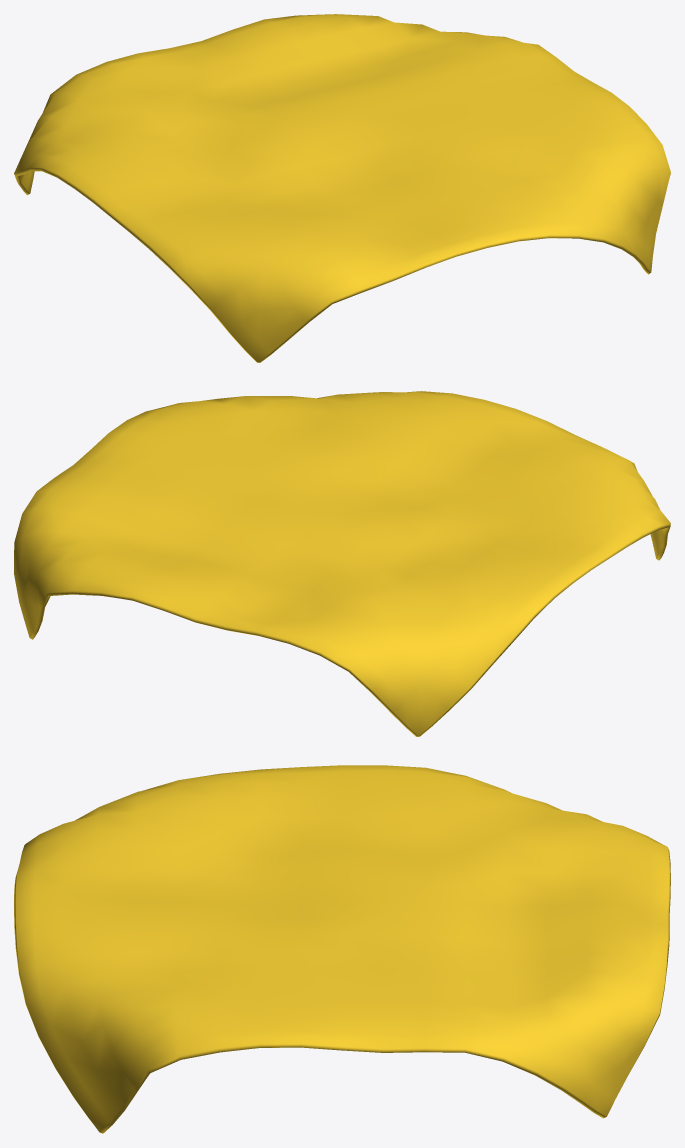
The model's file is CheddarWrap_Visual.fbx.
3 views of the same model, one above another, from view 1: azimuth 30°, elevation 25°; view 2: azimuth 150°, elevation 25°; view 3: azimuth 270°, elevation 25° (orthographic). The views are drawn at different scales.
Parts seen in each view (by area): view 1: CheddarWrap; view 2: CheddarWrap; view 3: CheddarWrap.
Boxes of the visible parts, x1,y1,x2,y2 form: CheddarWrap: (14,14,670,362); CheddarWrap: (14,391,670,736); CheddarWrap: (14,765,670,1133).
Size of the model in its own units: 11.85 by 2.48 by 11.85.
